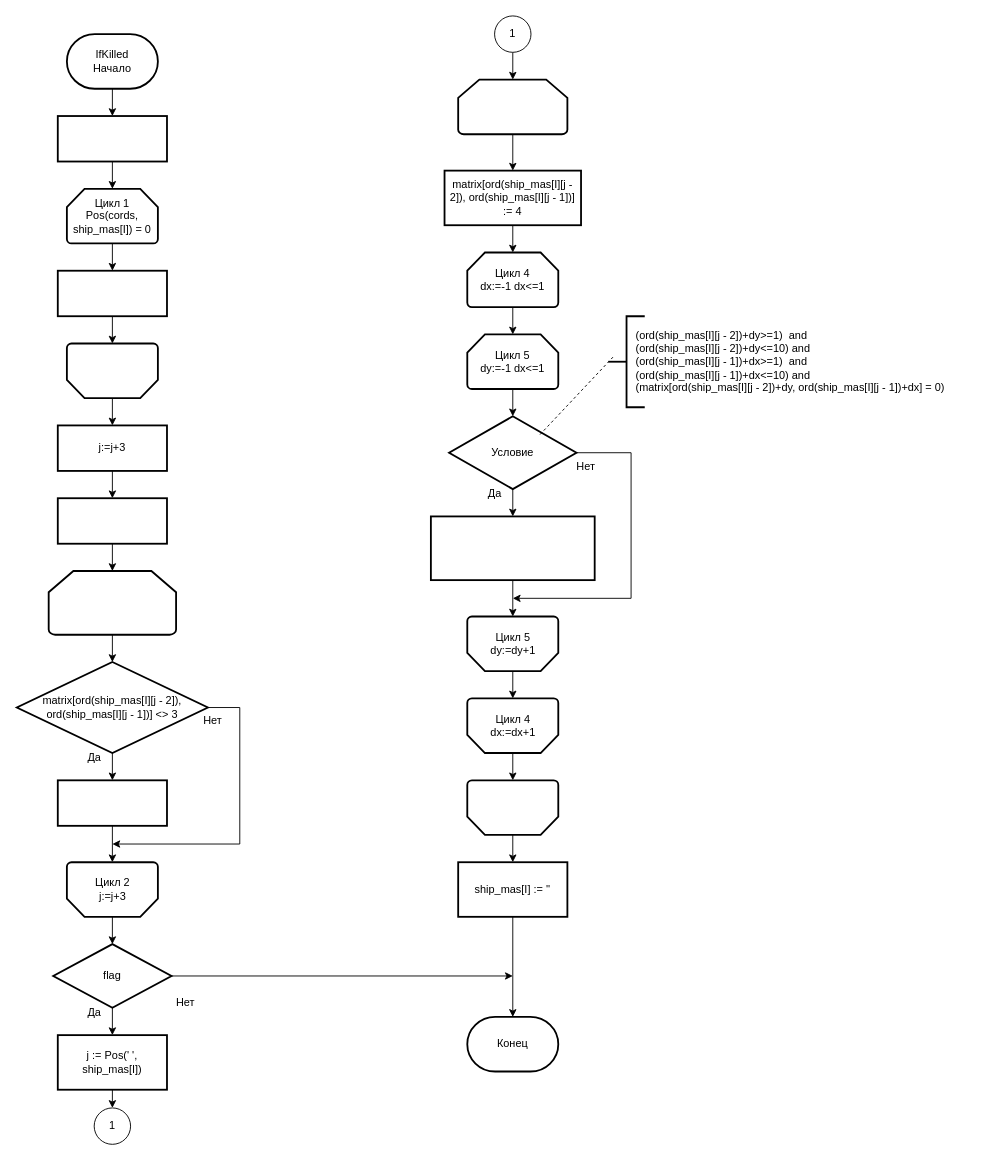
This 983x1160 diagram has some shape labels left out. Each missing label, with the centre of its shape:
"flag := False" belongs at [111,802].
"flag := True" belongs at [111,520].
"I := 1" belongs at [111,138].
"I := I + 1" belongs at [111,293].
"matrix[ord(ship_mas[I][j - 2])+dy, ord(ship_mas[I][j - 1])+dx] := 2" belongs at [512,548].
"Цикл 1 I:=I+1" belongs at [112,370].
"Цикл 2 (j<=Length(ship_mas[I])) and flag" belongs at [112,602].
"Цикл 3 (j<= Length(ship_mas[I]))" belongs at [512,106].
"Цикл 3 j:=j+3" belongs at [512,807].
